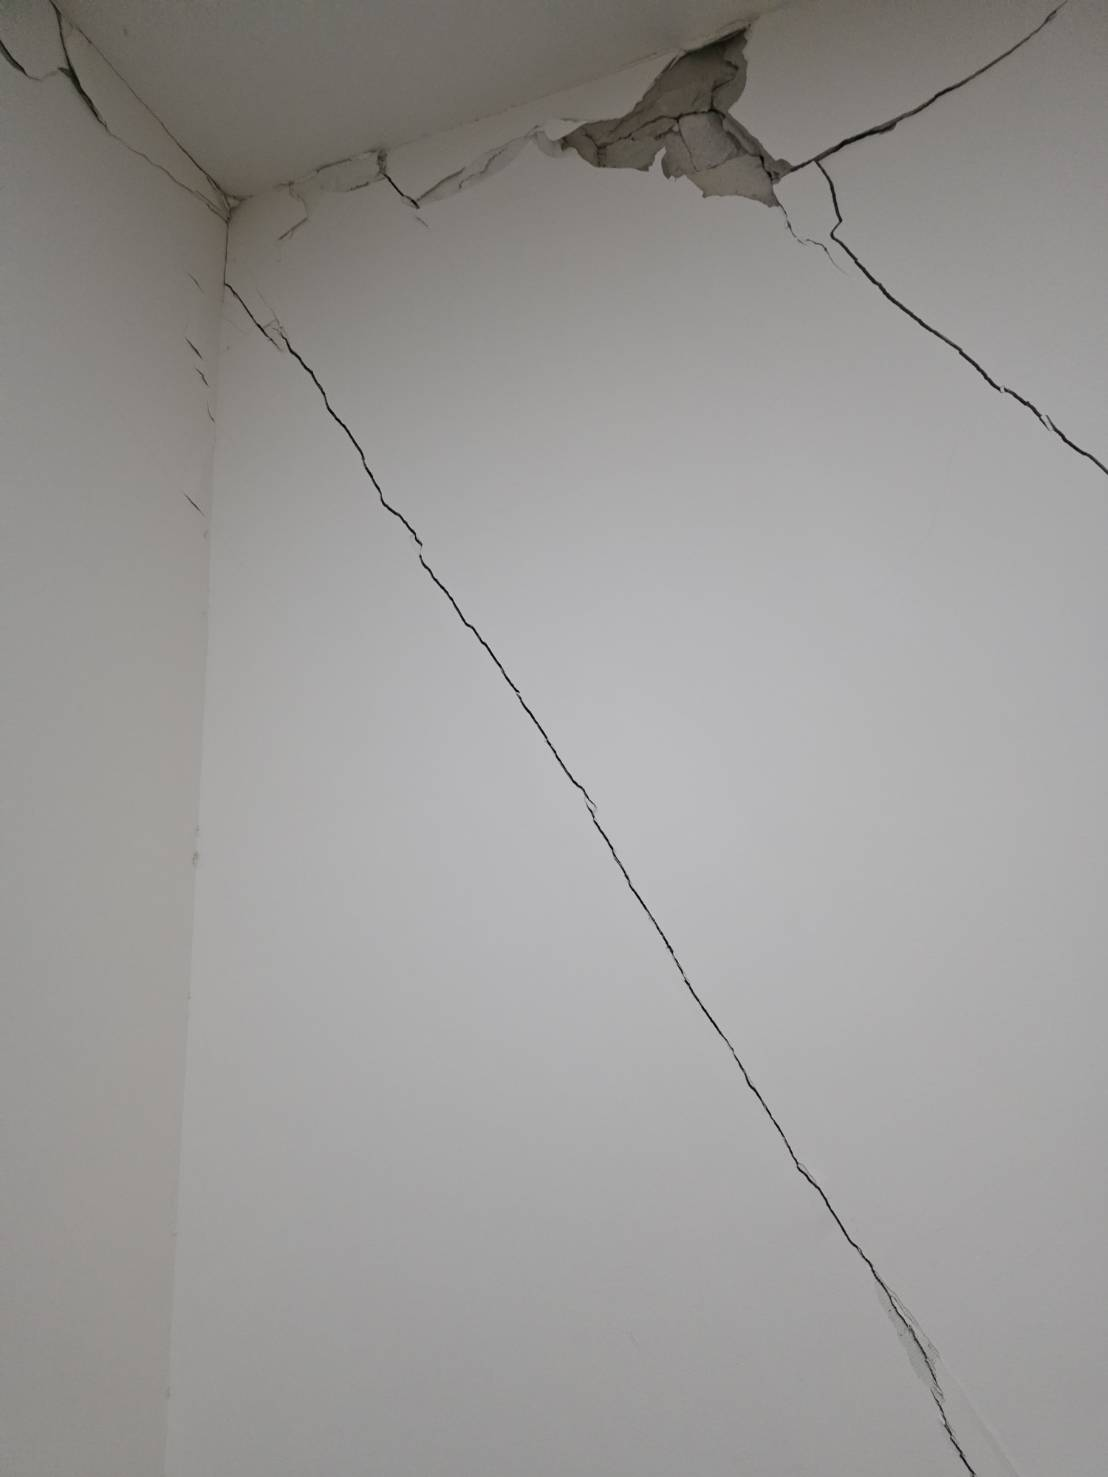Medium: (275, 306, 779, 947)
